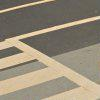Crosswalk: (0, 39, 99, 100)
